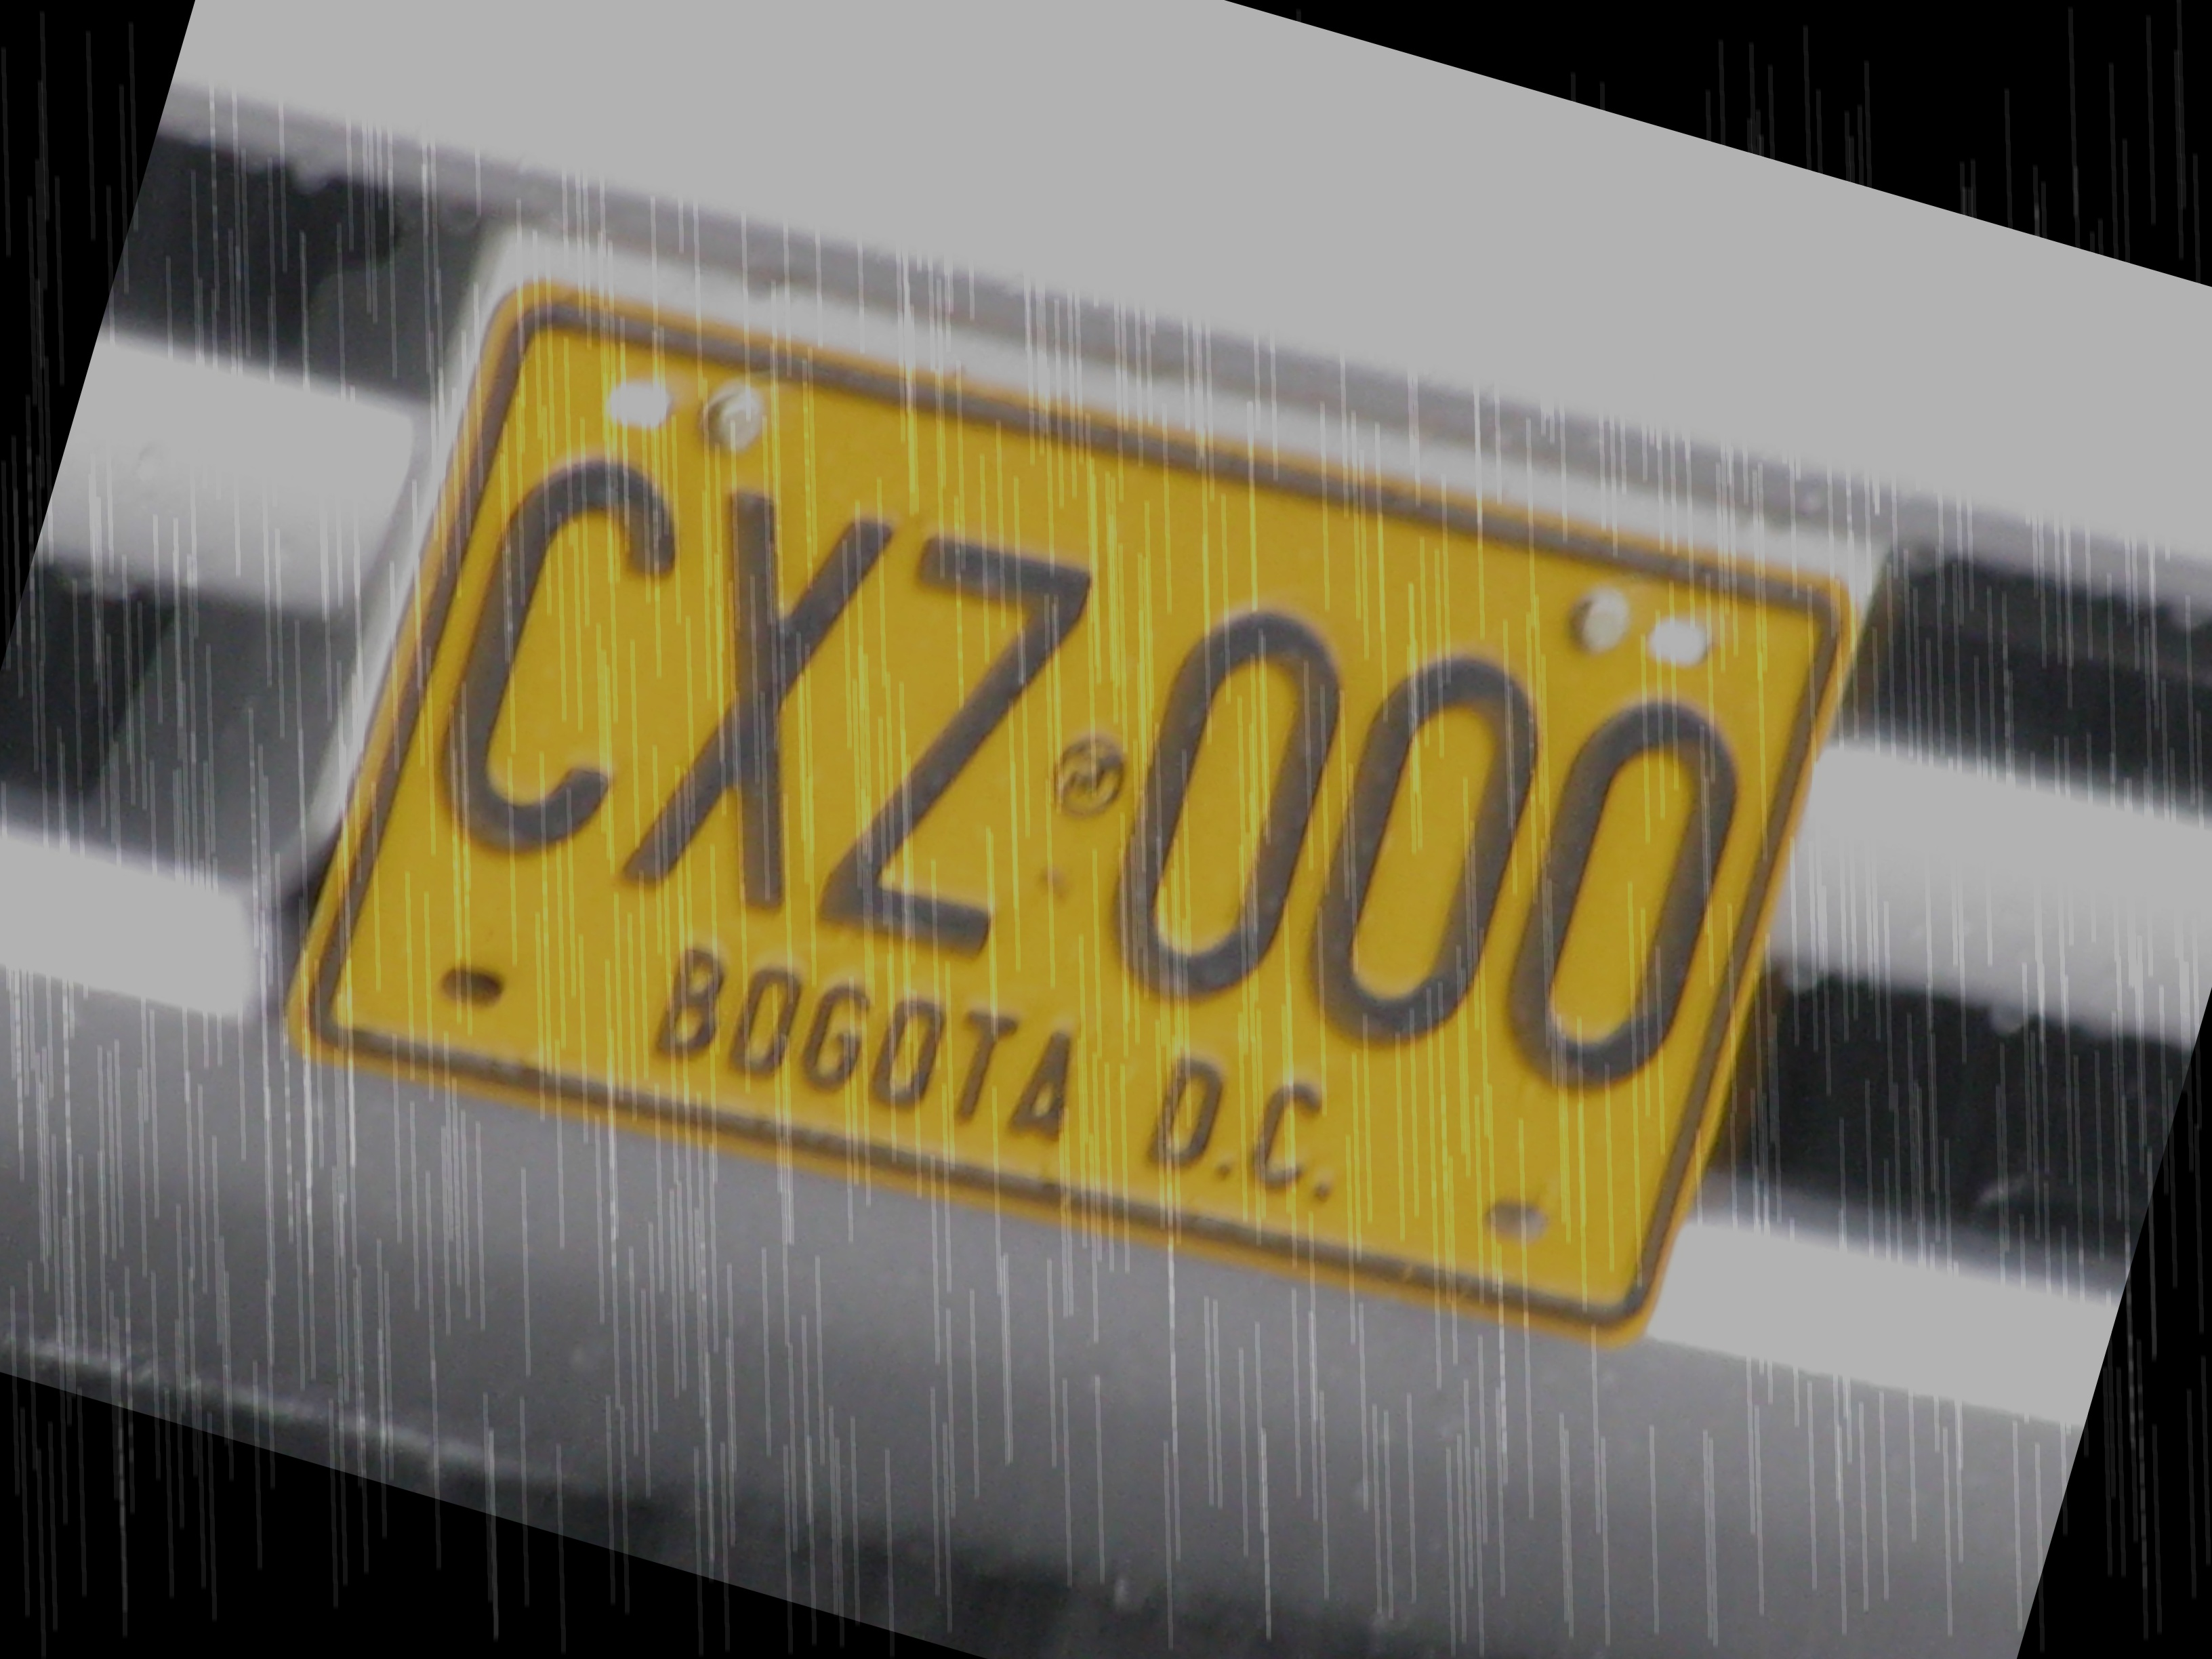placas: (258, 173, 1883, 1445)
